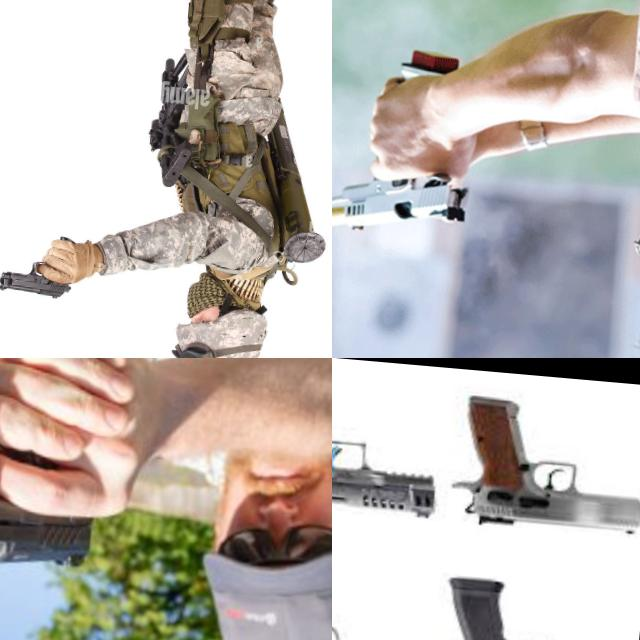handgun: (332, 36, 486, 244), (444, 389, 640, 542), (0, 409, 146, 601), (332, 369, 447, 521), (332, 358, 437, 500), (431, 571, 634, 640), (332, 531, 437, 640), (332, 553, 439, 640), (0, 227, 81, 303)
